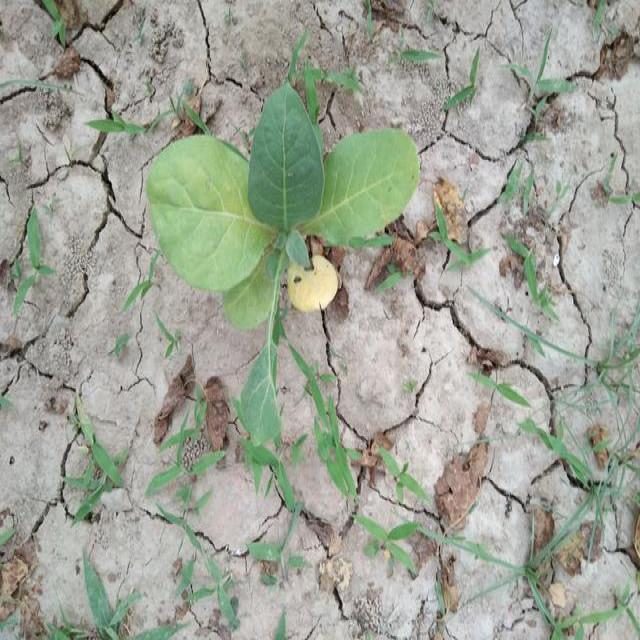crop: (141, 76, 421, 310)
